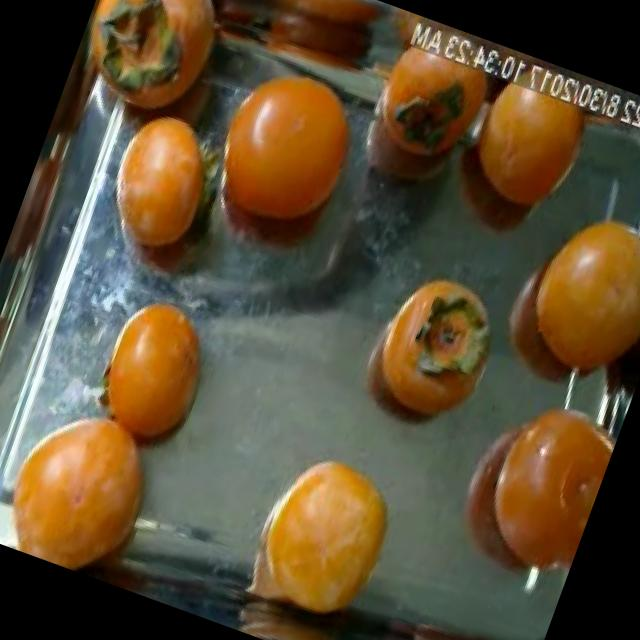Fruit: (414, 353, 630, 609), (188, 32, 395, 282), (422, 50, 620, 272), (469, 171, 640, 428), (229, 427, 429, 640), (0, 376, 192, 592), (340, 245, 527, 462), (78, 86, 246, 292), (75, 273, 242, 471)
